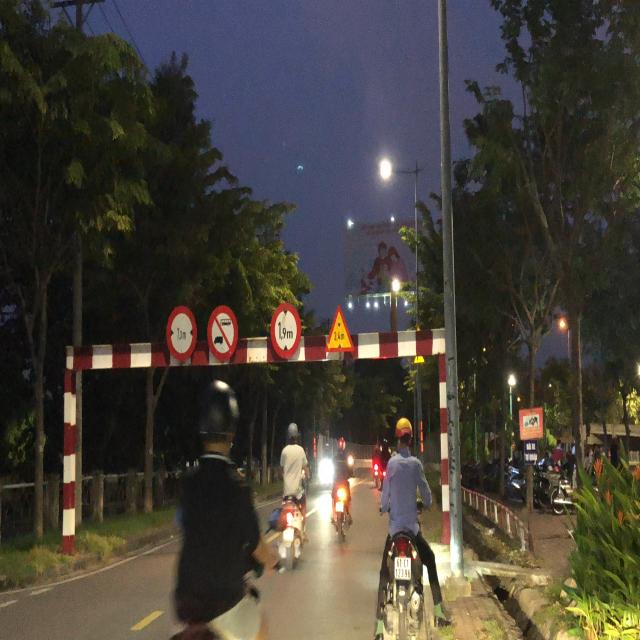Bien bao cam xe oto khach va xe oto tai: (207, 302, 241, 358)
Bien bao chieu cao tinh khong thuc te: (323, 302, 359, 360)
Bien bao han che chieu cao: (267, 297, 305, 363)
